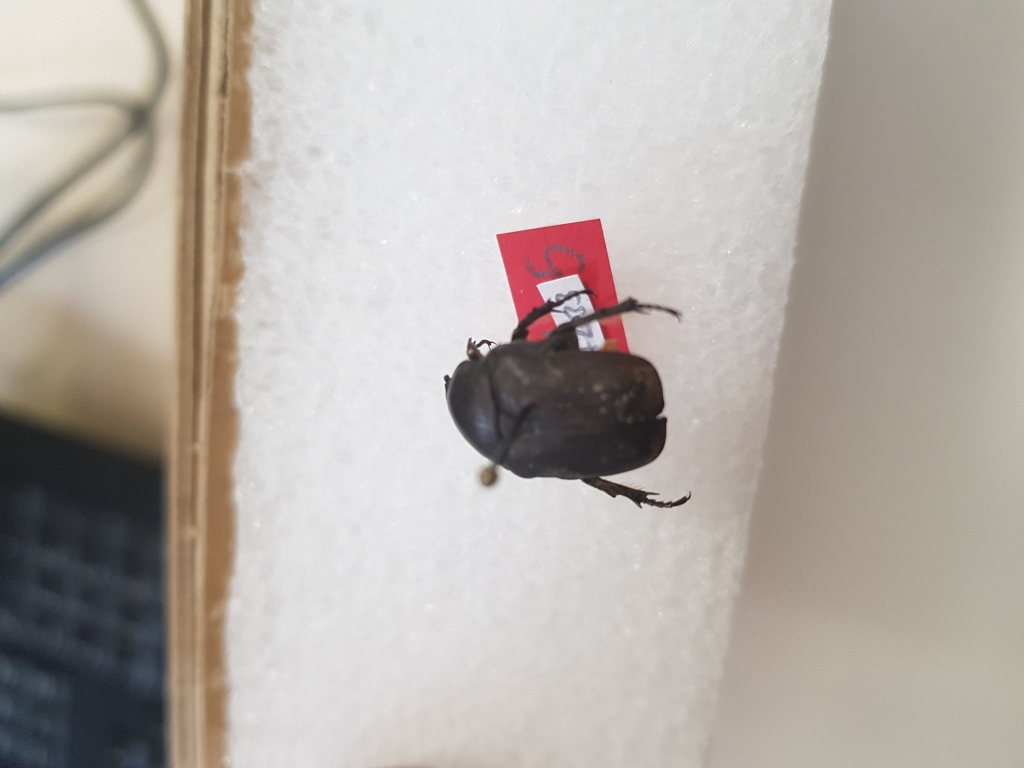Protaetia_asiatica: (438, 277, 706, 523)
